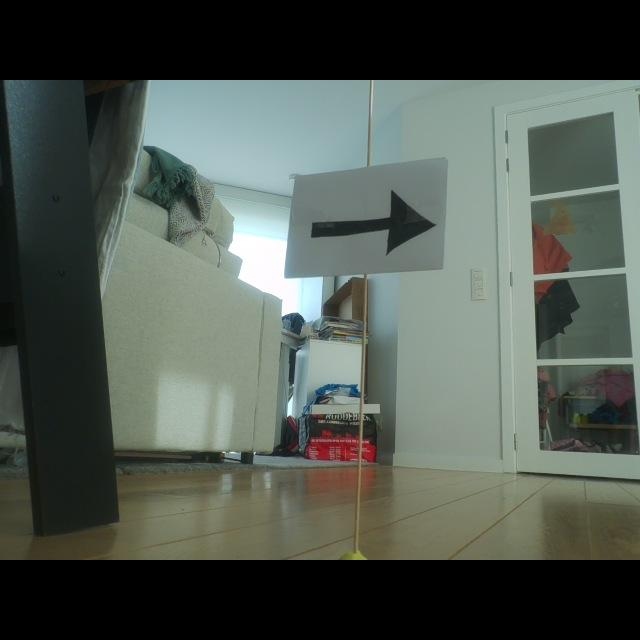jobbra_nyil: (312, 191, 435, 254)
